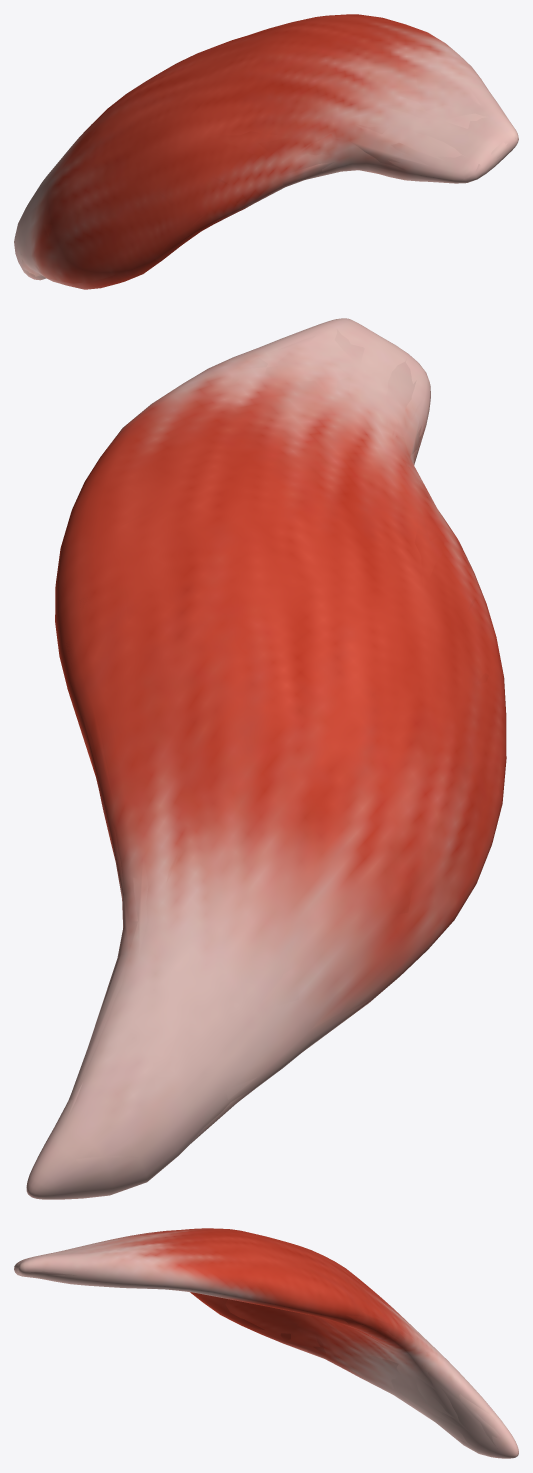
The model's file is R Gluteus Medius.fbx.
The picture shows the model from 3 angles, top to bottom: view 1: azimuth 30°, elevation 25°; view 2: azimuth 150°, elevation 25°; view 3: azimuth 270°, elevation 25°; orthographic projection. The views are drawn at different scales.
Parts seen in each view (by area): view 1: R Gluteus Medius, R Gluteus Medius low; view 2: R Gluteus Medius, R Gluteus Medius low; view 3: R Gluteus Medius, R Gluteus Medius low.
Boxes of the visible parts, x1,y1,x2,y2 form: R Gluteus Medius: (14, 14, 518, 289); R Gluteus Medius low: (16, 15, 515, 288); R Gluteus Medius: (26, 318, 506, 1199); R Gluteus Medius low: (40, 328, 502, 1189); R Gluteus Medius: (14, 1228, 518, 1458); R Gluteus Medius low: (14, 1230, 508, 1450).
Bounding box in the file's own units: 22.95 × 25.8 × 46.19.
